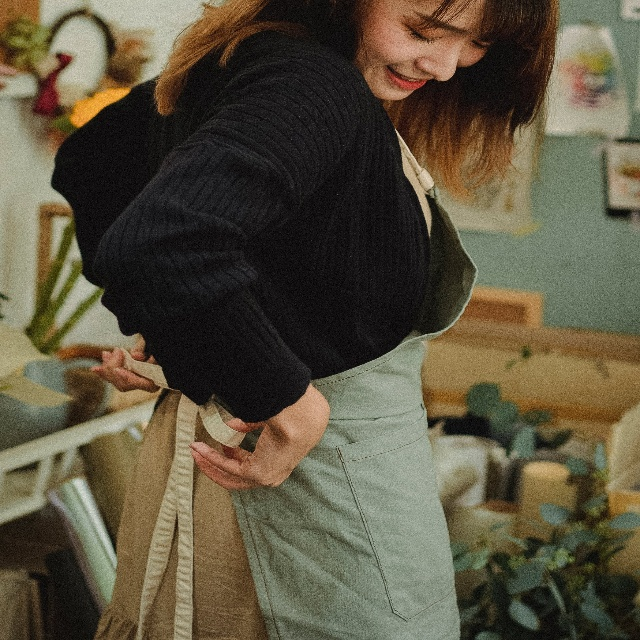Sin_guantes: (191, 395, 328, 493), (92, 332, 157, 393)
